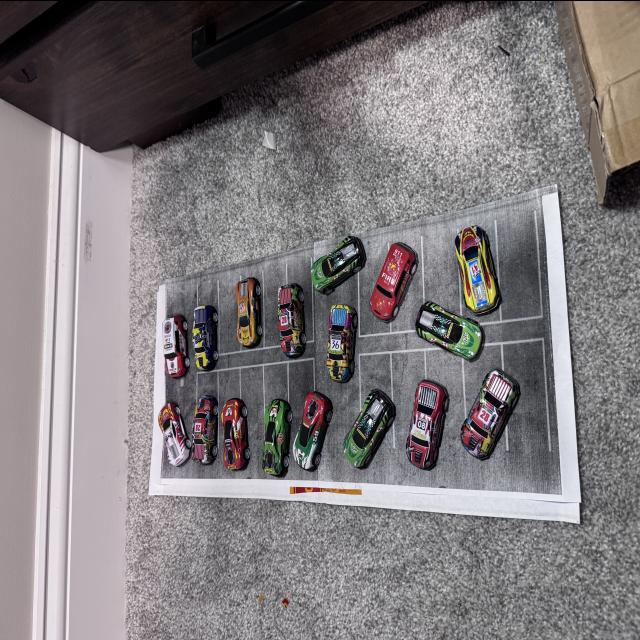Car: (452, 368, 542, 473), (391, 368, 453, 496), (349, 236, 415, 356), (338, 374, 408, 484), (142, 366, 198, 488), (446, 198, 501, 321), (290, 359, 344, 483), (308, 210, 368, 310), (216, 369, 266, 482), (318, 294, 360, 389), (264, 377, 300, 487), (142, 307, 192, 386), (418, 310, 488, 364), (276, 271, 308, 371), (235, 256, 262, 361), (188, 398, 222, 474), (184, 294, 208, 384)
